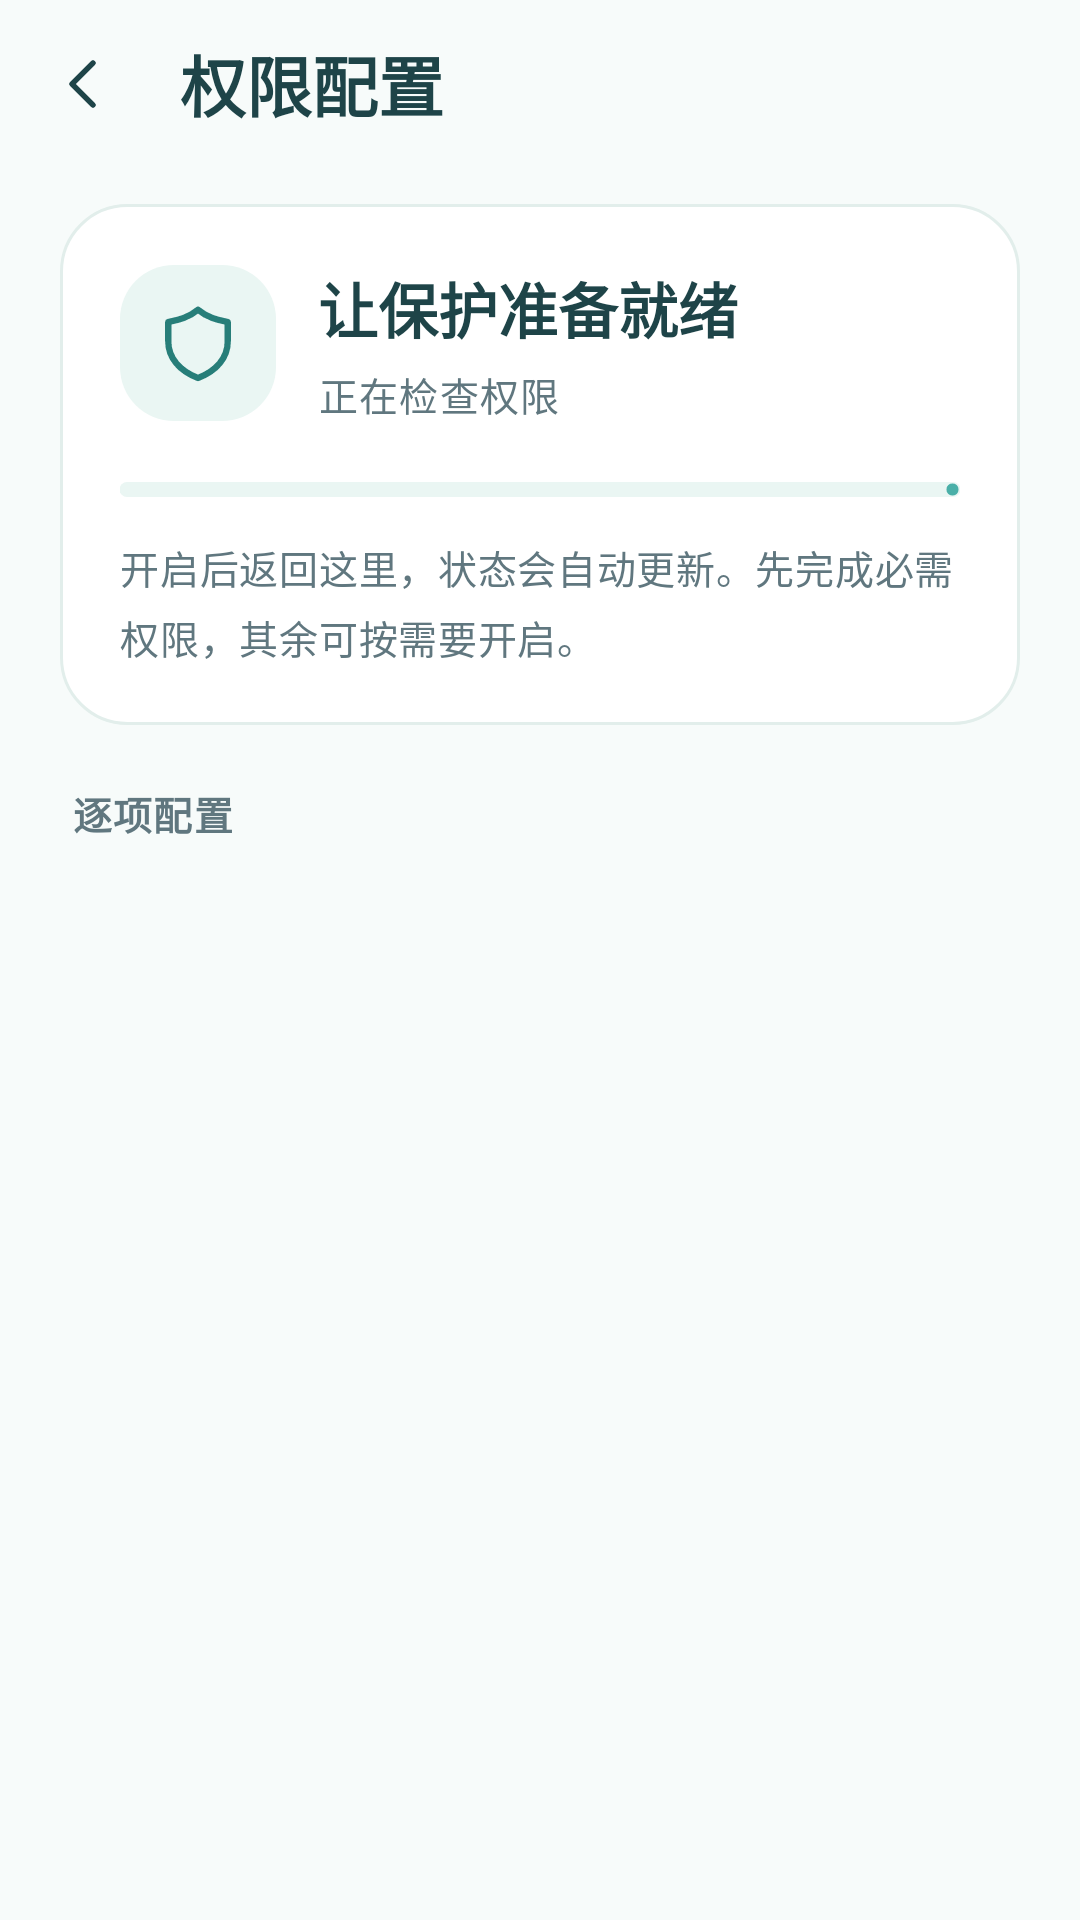

Screen size 1080×1920. Icon name, then its center in pixels as [x,y]:
calm shield: [198,343]
